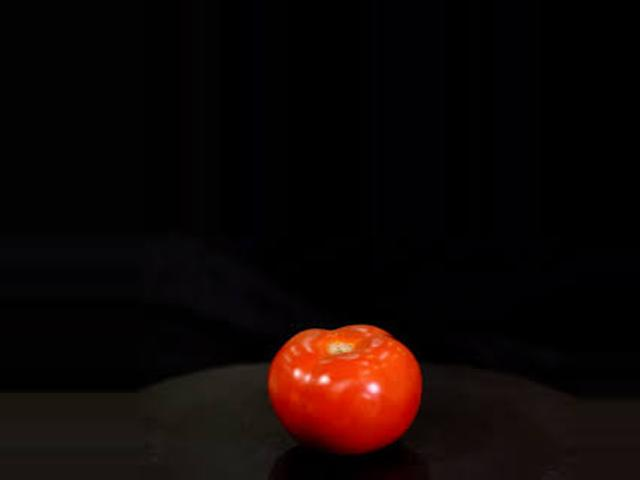tomato: (268, 324, 424, 452)
